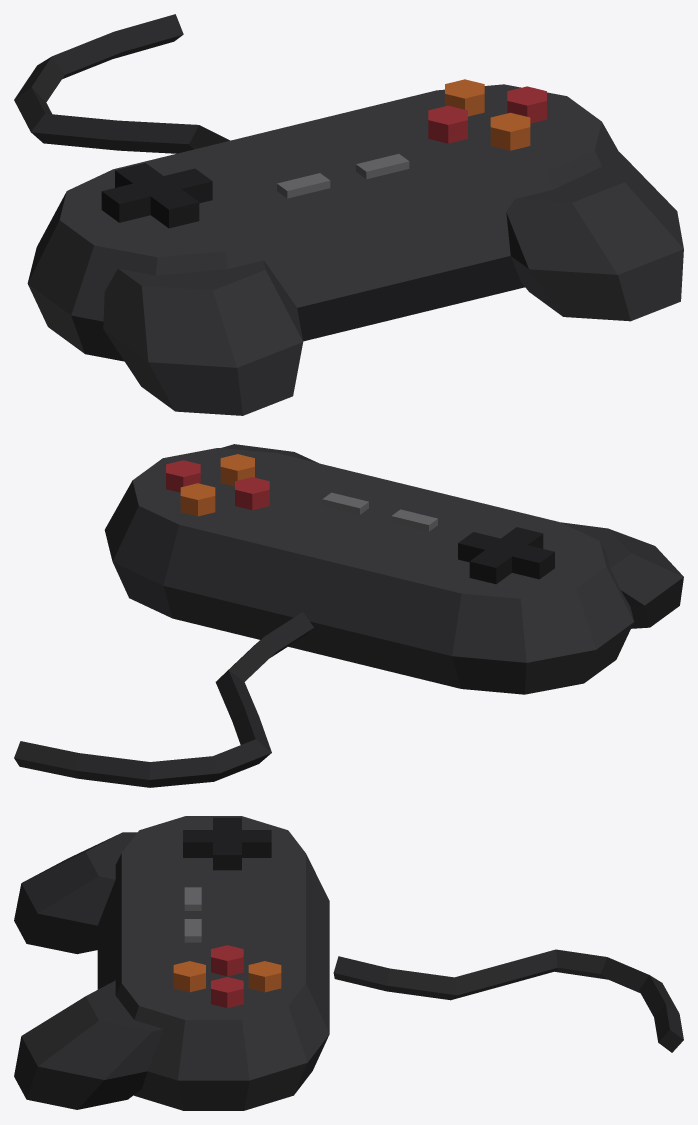
Rendered from tl_prop_gamepad_v01.glb.
3 views of the same model, one above another, from view 1: azimuth 30°, elevation 25°; view 2: azimuth 150°, elevation 25°; view 3: azimuth 270°, elevation 25° (orthographic). The views are drawn at different scales.
Visible parts, largest first — view 1: tl_prop_gamepad_v01; view 2: tl_prop_gamepad_v01; view 3: tl_prop_gamepad_v01.
Boxes of the visible parts, x1,y1,x2,y2 form: tl_prop_gamepad_v01: (14, 14, 683, 415); tl_prop_gamepad_v01: (14, 444, 683, 787); tl_prop_gamepad_v01: (14, 816, 683, 1110).
Size of the model in its own units: 0.1567 by 0.033 by 0.1963.
